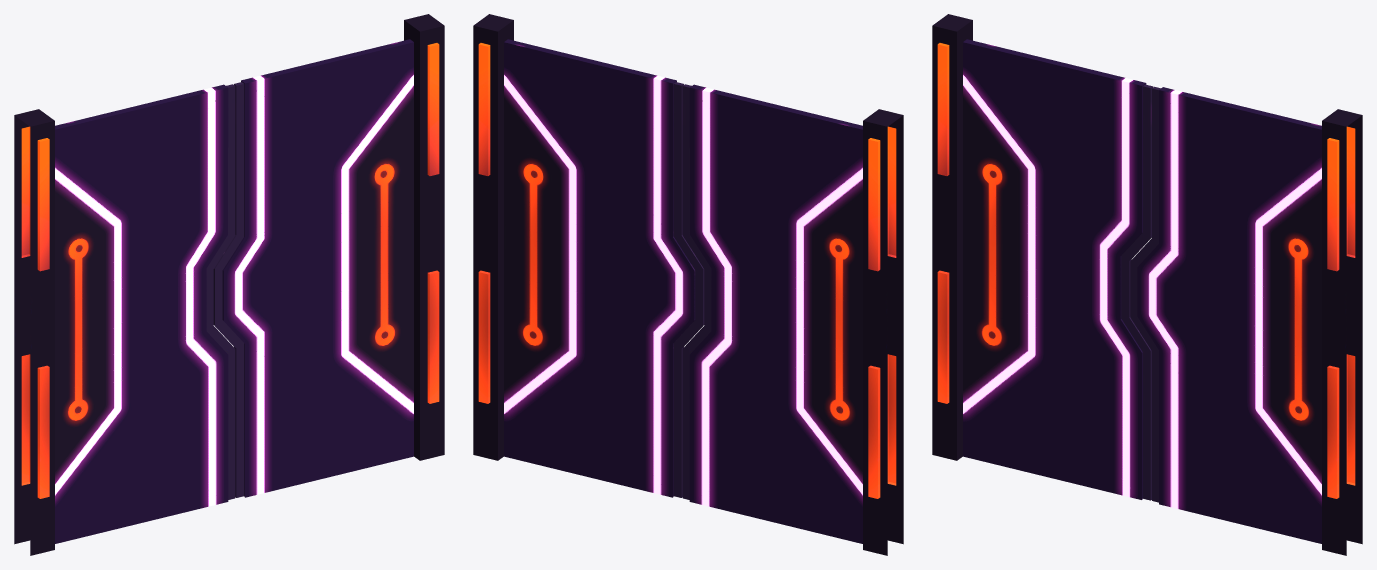
Rendered from door medium.glb.
The picture shows the model from 3 angles, left to right: view 1: azimuth 30°, elevation 25°; view 2: azimuth 150°, elevation 25°; view 3: azimuth 330°, elevation 25°; orthographic projection.
Visible parts, largest first — view 1: door left.003, door right.003, door frame; view 2: door left.003, door right.003, door frame; view 3: door right.003, door left.003, door frame.
Boxes of the visible parts, x1,y1,x2,y2 form: door left.003: [213, 39, 413, 497]; door right.003: [55, 84, 235, 543]; door frame: [14, 14, 444, 555]; door left.003: [504, 39, 704, 497]; door right.003: [682, 84, 862, 543]; door frame: [473, 14, 903, 555]; door right.003: [963, 39, 1153, 500]; door left.003: [1130, 86, 1321, 543]; door frame: [932, 14, 1362, 555].
Bounding box in the file's own units: 1 × 0.9897 × 0.0856.
Materials: 1 (1 with a texture image).
